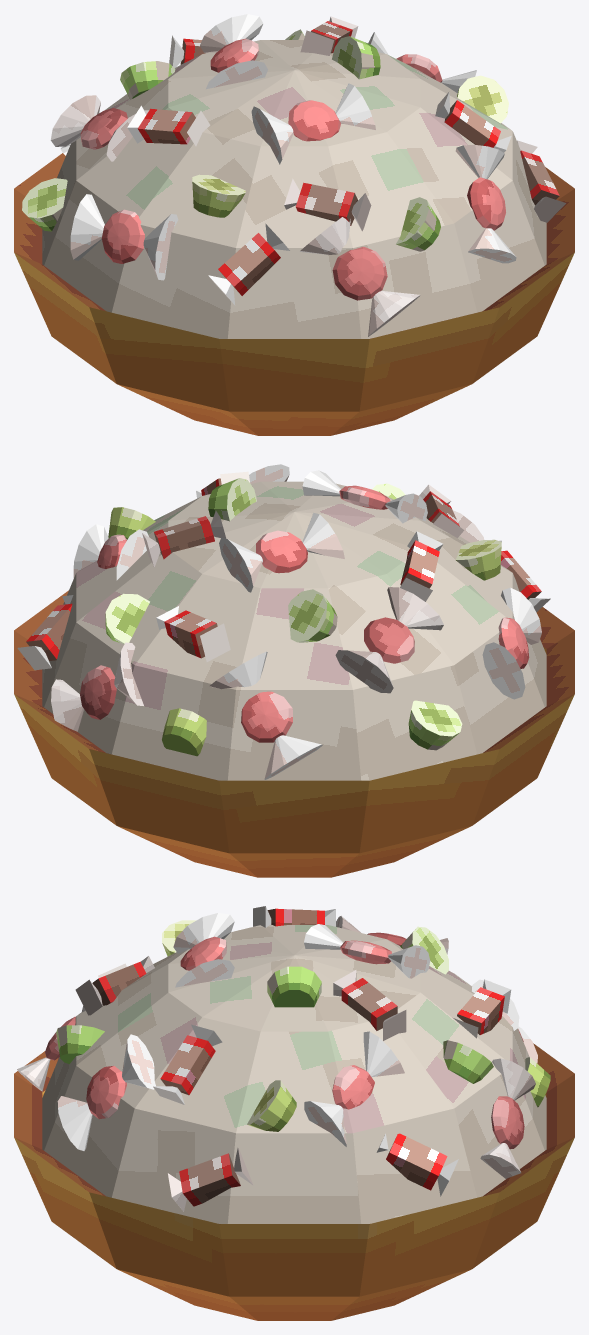
The model's file is Candy Bowl model.gltf.
3 views of the same model, one above another, from view 1: azimuth 30°, elevation 25°; view 2: azimuth 150°, elevation 25°; view 3: azimuth 270°, elevation 25° (orthographic).
Parts seen in each view (by area): view 1: Candy outline, Bowl, Reeses candy (×6), candy 5 (×2), candy 8, candy 4 (×2), candy 3, Candy 1 (×2), Candy 2 (×2), candy 7, Candy 3 (×2), Candy 5; view 2: Candy outline, Bowl, Reeses candy (×7), candy 4 (×2), candy 3 (×2), candy 6, candy 7, Candy 1 (×2), candy 8, Candy 3 (×2), Candy 4, Candy 5 (+1 smaller); view 3: Candy outline, Bowl, Reeses candy (×7), candy 3 (×2), Candy 2 (×2), candy 5 (×2), Candy 1 (×2), candy 4, Candy 3 (×2), candy 7, Candy 4, candy 6.
Part boxes in pixels (bbox=[...]): Candy outline: bbox=[42, 40, 546, 338]; Bowl: bbox=[14, 153, 574, 435]; Reeses candy (×6): bbox=[22, 36, 508, 251]; candy 5 (×2): bbox=[300, 145, 516, 336]; candy 8: bbox=[70, 194, 178, 280]; candy 4 (×2): bbox=[50, 32, 476, 161]; candy 3: bbox=[251, 83, 375, 164]; Candy 1 (×2): bbox=[127, 16, 358, 146]; Candy 2 (×2): bbox=[435, 92, 565, 222]; candy 7: bbox=[200, 14, 267, 89]; Candy 3 (×2): bbox=[169, 35, 371, 231]; Candy 5: bbox=[208, 223, 289, 305]; Candy outline: bbox=[42, 481, 546, 780]; Bowl: bbox=[14, 590, 574, 877]; Reeses candy (×7): bbox=[105, 478, 501, 756]; candy 4 (×2): bbox=[73, 524, 443, 693]; candy 3 (×2): bbox=[51, 470, 427, 731]; candy 6: bbox=[209, 651, 322, 779]; candy 7: bbox=[219, 512, 344, 592]; Candy 1 (×2): bbox=[142, 511, 443, 601]; candy 8: bbox=[482, 587, 541, 699]; Candy 3 (×2): bbox=[156, 484, 464, 661]; Candy 4: bbox=[17, 595, 73, 670]; Candy 5: bbox=[499, 540, 550, 612]; Candy outline: bbox=[42, 925, 546, 1223]; Bowl: bbox=[14, 1043, 574, 1320]; Reeses candy (×7): bbox=[56, 920, 550, 1131]; candy 3 (×2): bbox=[173, 913, 535, 1178]; Candy 2 (×2): bbox=[153, 1024, 253, 1211]; candy 5 (×2): bbox=[17, 1006, 155, 1150]; Candy 1 (×2): bbox=[253, 906, 406, 1040]; candy 4: bbox=[304, 1031, 404, 1146]; Candy 3 (×2): bbox=[75, 956, 511, 1038]; candy 7: bbox=[304, 924, 430, 978]; Candy 4: bbox=[376, 1133, 458, 1196]; candy 6: bbox=[472, 979, 537, 1063].
Bounding box in the file's own units: 1.67 × 1.07 × 1.67.
Materials: 8 (8 with a texture image).
